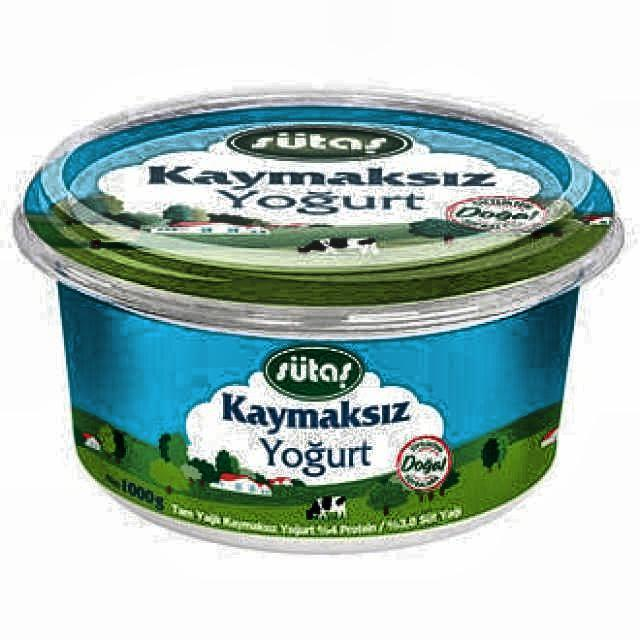plastic: (12, 89, 626, 556)
